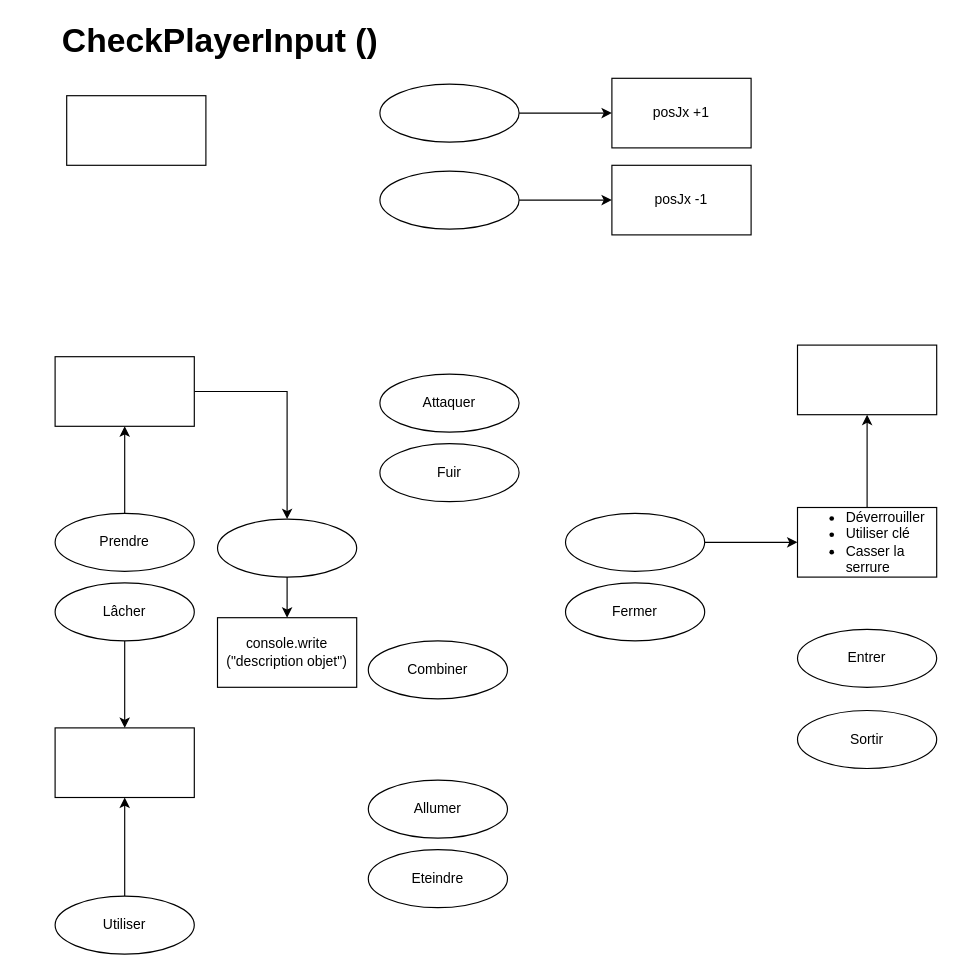
Some shapes in this 957 by 974 pixel diagram are drawn without their labels. The shapes that lost their labels are listed below. From the top down, each one's centre as x and y in pixels, then its label:
At point 136,130: "Que peut faire le joueur?".
At point 449,112: "Avancer".
At point 449,199: "Reculer".
At point 124,391: "ajouter objet à inventaire".
At point 866,379: "false: porte = mur true: porte = avancer".
At point 286,547: "Examiner".
At point 634,541: "Ouvrir".
At point 124,762: "supprimer objet de l'inventaire".
